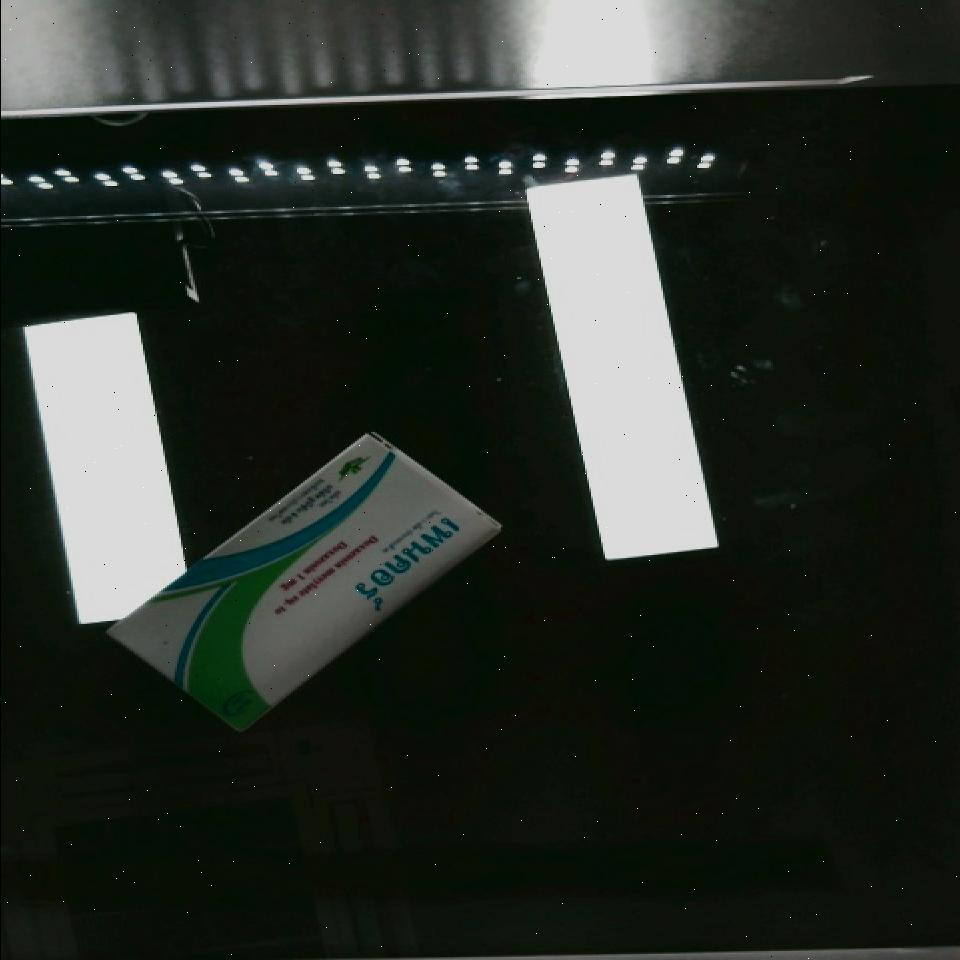medicine_box: (103, 398, 502, 764)
medicine_label_obb: (329, 482, 498, 630)
